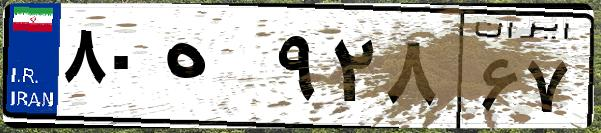0: (110, 28, 158, 98)
2: (330, 28, 385, 110)
6: (475, 38, 525, 113)
7: (525, 38, 570, 115)
8: (385, 28, 445, 110), (57, 26, 110, 100)
9: (270, 28, 330, 110)
ه: (158, 20, 270, 120)
